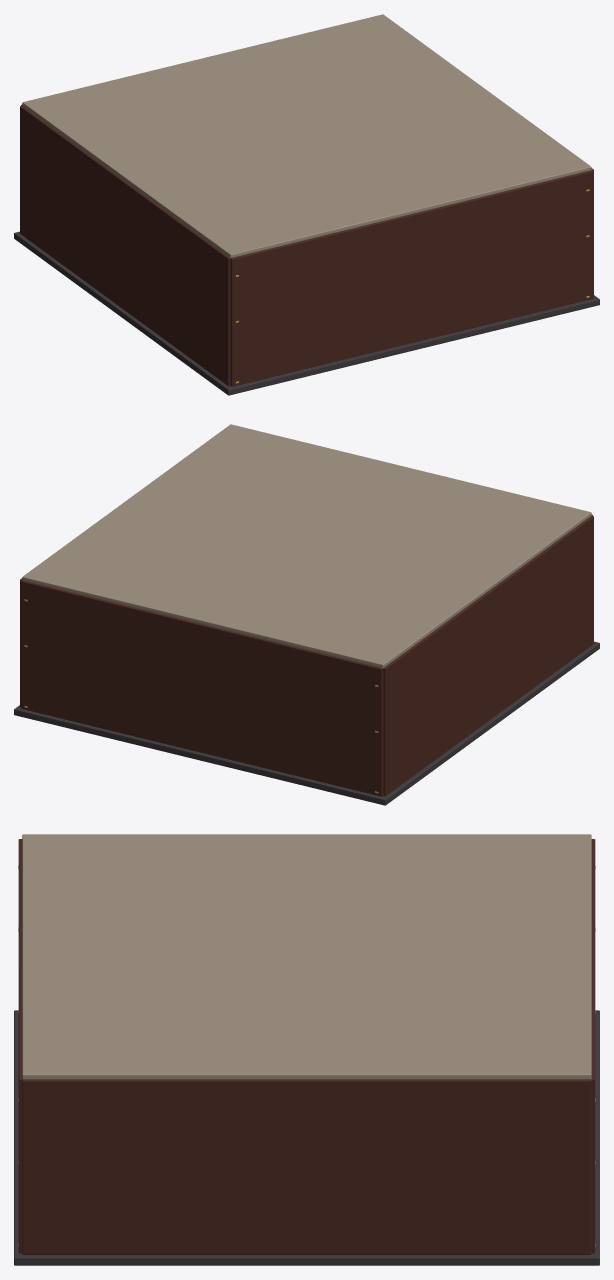
File: Salon.fbx
3 renders of one model, top to bottom at view 1: azimuth 30°, elevation 25°; view 2: azimuth 150°, elevation 25°; view 3: azimuth 270°, elevation 25°, orthographic. The views are drawn at different scales.
Parts seen in each view (by area): view 1: Ceiling, EndWall.001, SideWall, MarbleFloor; view 2: Ceiling, EndWall, SideWall, MarbleFloor; view 3: Ceiling, SideWall.001, MarbleFloor, EndWall, EndWall.001.
Boxes of the visible parts, bbox=[...] form: Ceiling: bbox=[22, 14, 591, 257]; EndWall.001: bbox=[230, 170, 592, 386]; SideWall: bbox=[20, 106, 230, 386]; MarbleFloor: bbox=[14, 231, 599, 395]; Ceiling: bbox=[22, 424, 591, 667]; EndWall: bbox=[21, 580, 383, 796]; SideWall: bbox=[383, 516, 593, 796]; MarbleFloor: bbox=[14, 641, 599, 805]; Ceiling: bbox=[22, 834, 591, 1079]; SideWall.001: bbox=[22, 1079, 591, 1254]; MarbleFloor: bbox=[14, 1010, 599, 1265]; EndWall: bbox=[591, 839, 595, 1253]; EndWall.001: bbox=[18, 839, 22, 1253].
Size of the model in its own units: 1400 by 496 by 1400.
